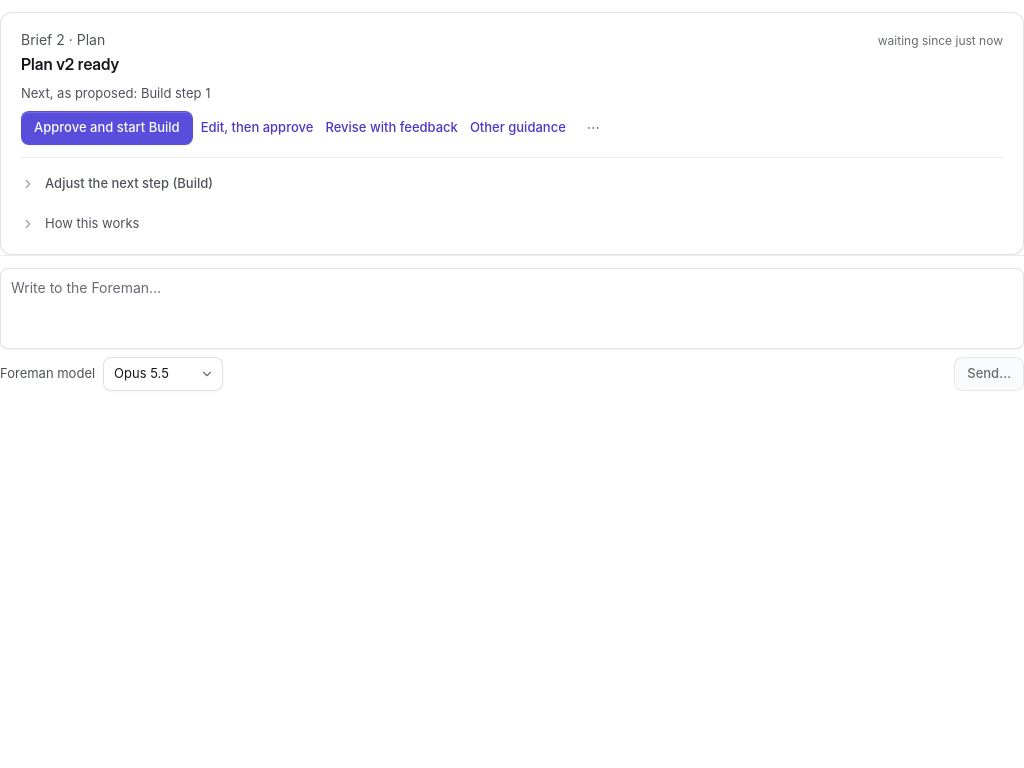
Test case: the lock on the page › a send refused with the lock error shows the card and turns the box off until you say it’s closed
Type "Go on." into the text box named "Your message to the Foreman".
click(512, 309); type("Go on.")  # box [0,268,1023,349]
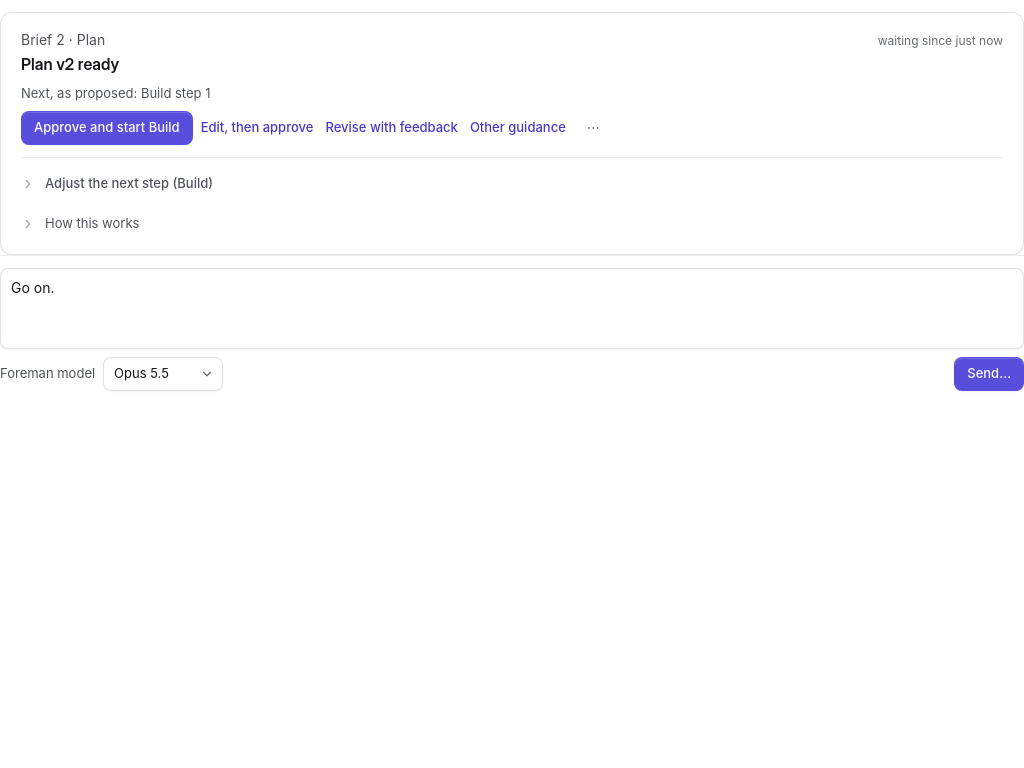
Click the button "Send…".
click(989, 374)  # box [954,357,1023,391]
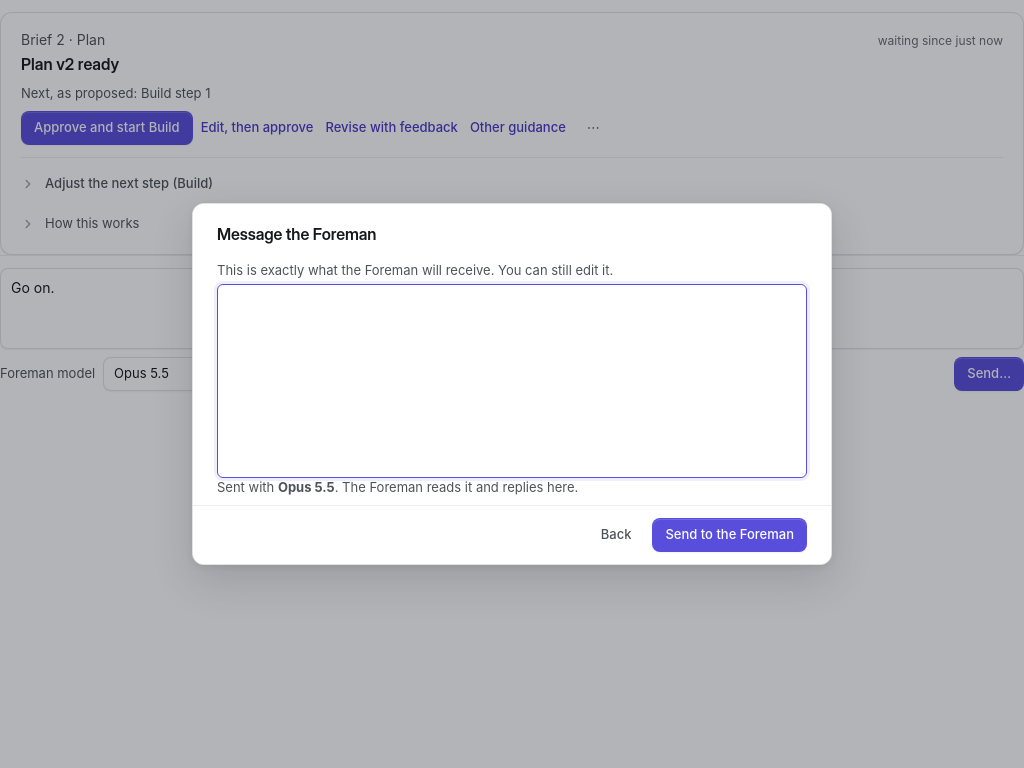
Click the button "Send to the Foreman".
click(730, 535)  # box [652,518,807,552]
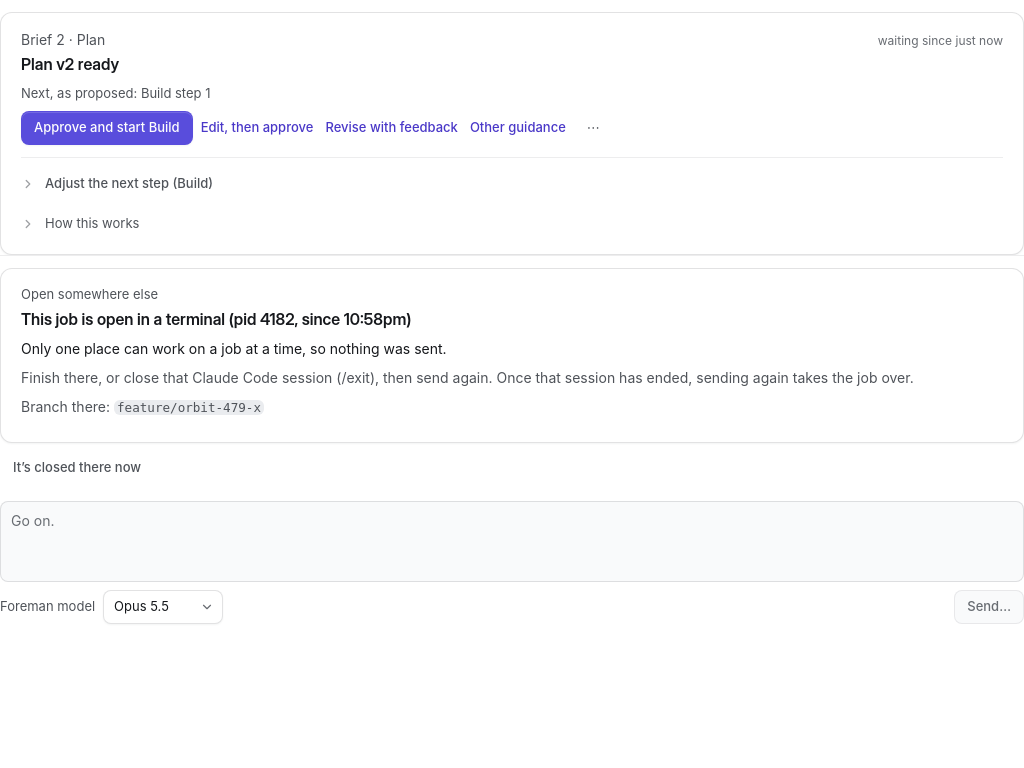
expect the message named "Job open elsewhere" shows "pid 4182": met, box [21,309,411,329]
expect the text box named "Your message to the Foreman" is disabled: met, box [0,501,1023,582]
Click the button "It’s closed there now".
click(77, 468)  # box [0,451,154,485]
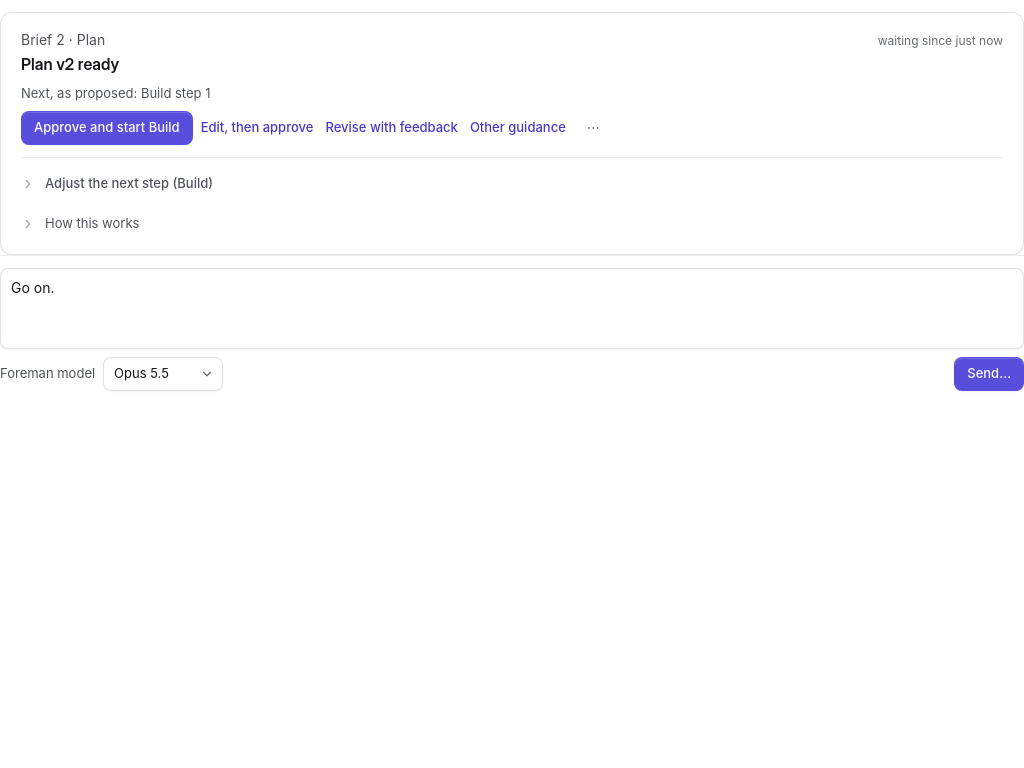
expect the text box named "Your message to the Foreman" is enabled: met, box [0,268,1023,349]
